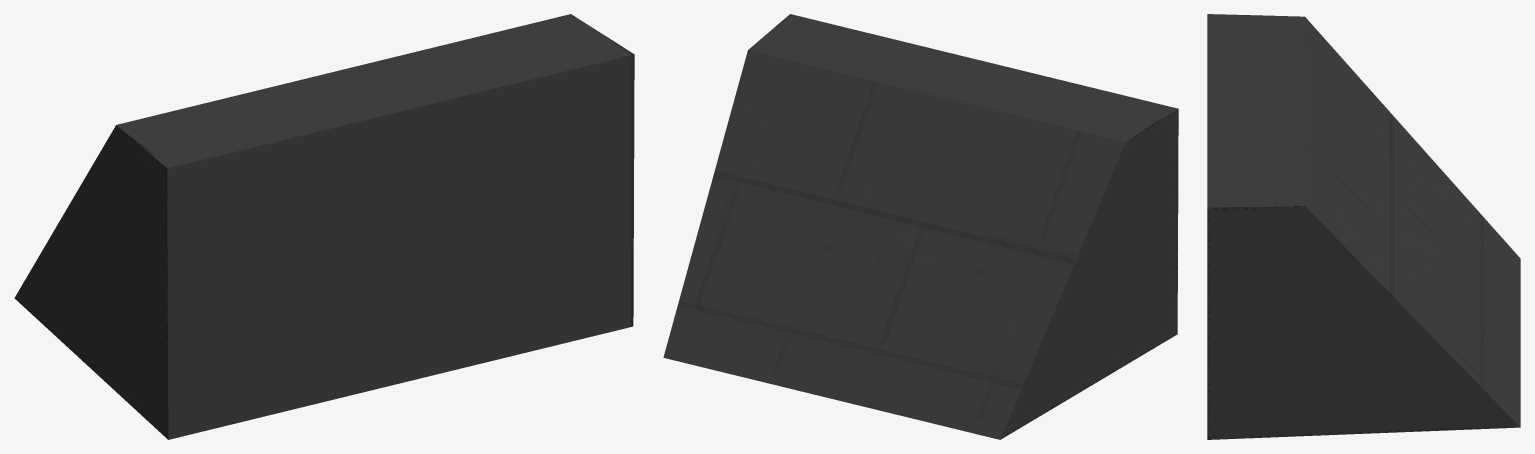
The model's file is Secret_Vertical2.fbx.
3 renders of one model, left to right at view 1: azimuth 30°, elevation 25°; view 2: azimuth 150°, elevation 25°; view 3: azimuth 270°, elevation 25°, orthographic. The views are drawn at different scales.
Visible parts, largest first — view 1: Wall_Secret_Door_North; view 2: Wall_Secret_Door_North; view 3: Wall_Secret_Door_North.
Boxes of the visible parts, x1,y1,x2,y2 form: Wall_Secret_Door_North: (14,14,634,439); Wall_Secret_Door_North: (663,14,1178,439); Wall_Secret_Door_North: (1207,14,1520,439).
Size of the model in its own units: 540 by 300 by 368.
Materials: 1 (1 with a texture image).
